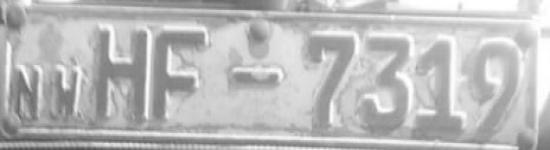-: (227, 58, 289, 91)
1: (419, 27, 467, 136)
3: (362, 25, 416, 132)
7: (305, 24, 359, 128)
9: (468, 30, 522, 143)
F: (150, 21, 214, 127)
H: (93, 21, 150, 126)
N: (10, 65, 48, 122)
W: (51, 59, 88, 121)
